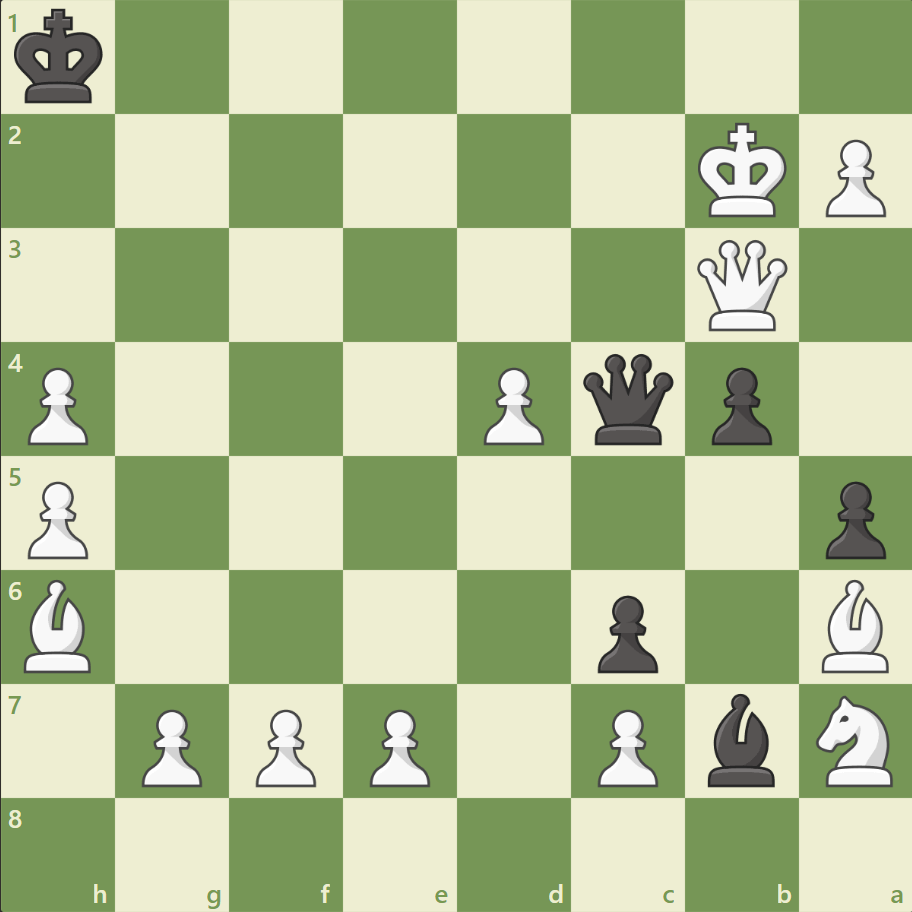B: (812, 574, 896, 676), (17, 574, 101, 676)
K: (692, 117, 792, 225)
N: (806, 688, 903, 791)
P: (247, 700, 322, 791), (133, 700, 208, 791), (20, 473, 95, 564), (474, 359, 549, 450), (20, 359, 95, 450), (588, 700, 662, 791), (361, 700, 435, 791), (815, 132, 889, 223)
Q: (691, 236, 790, 335)
b: (698, 687, 782, 790)
k: (11, 4, 111, 112)
p: (701, 359, 776, 450), (588, 586, 662, 677), (815, 473, 889, 564)
q: (578, 349, 677, 449)
